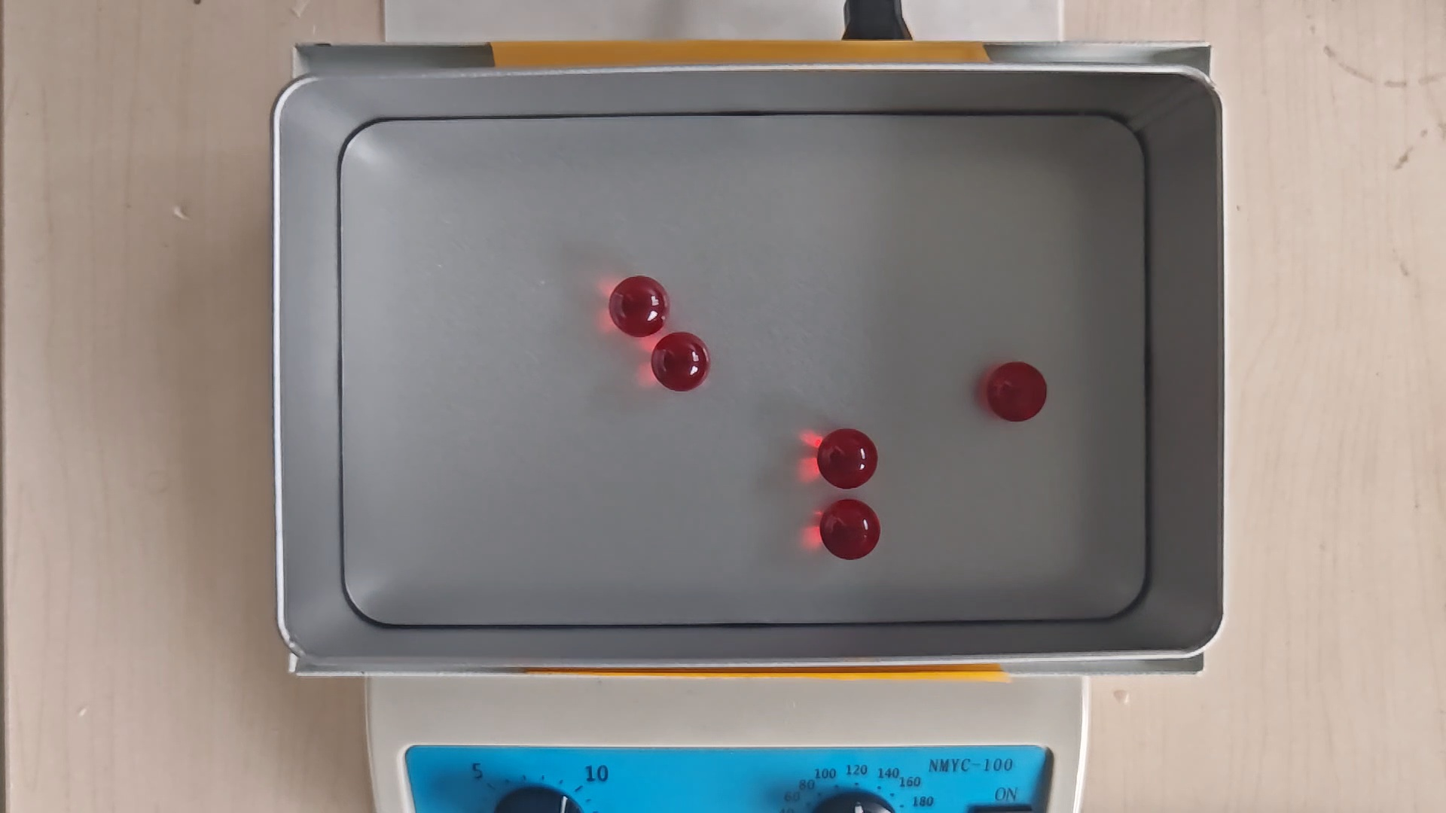ball: (819, 498, 883, 560), (608, 275, 670, 337), (816, 428, 879, 489), (987, 361, 1048, 424), (652, 330, 712, 392)
container: (339, 117, 1146, 623)
